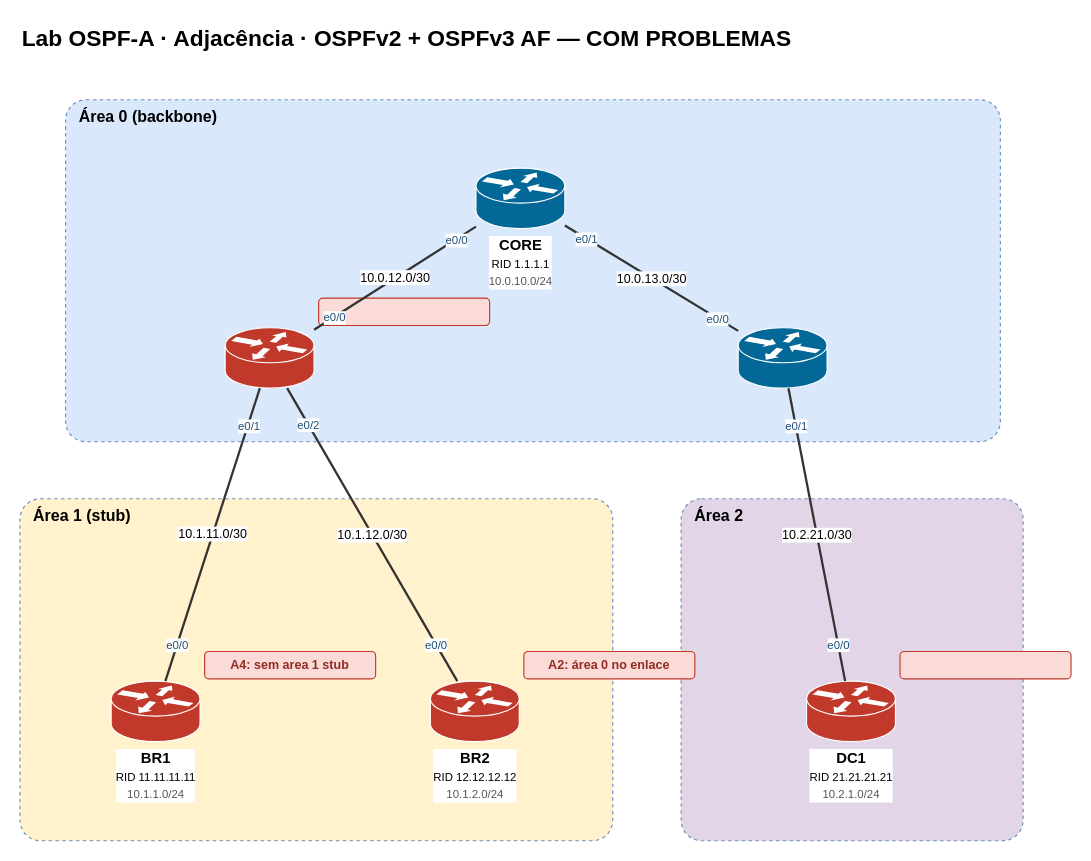
Image size: 1091x861. Some labels were removed from this diagram. Here are the shapes that lost their labels. From the top down, the centre of each, then its label:
At (x=403, y=311): "A3: ip mtu 1400".
At (x=269, y=357): "ABR1 RID 2.2.2.2".
At (x=782, y=357): "ABR2 RID 3.3.3.3".
At (x=985, y=664): "A1: hello 5 / dead 20".
